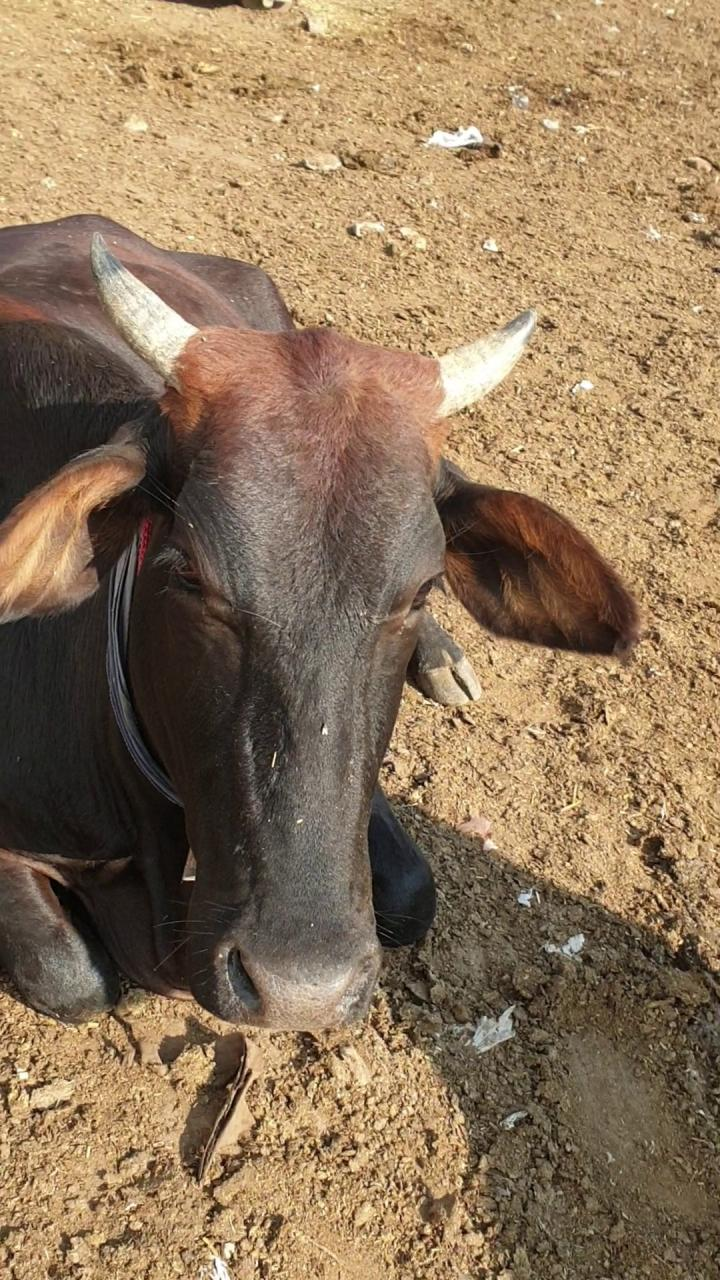cows: (133, 307, 497, 1075)
